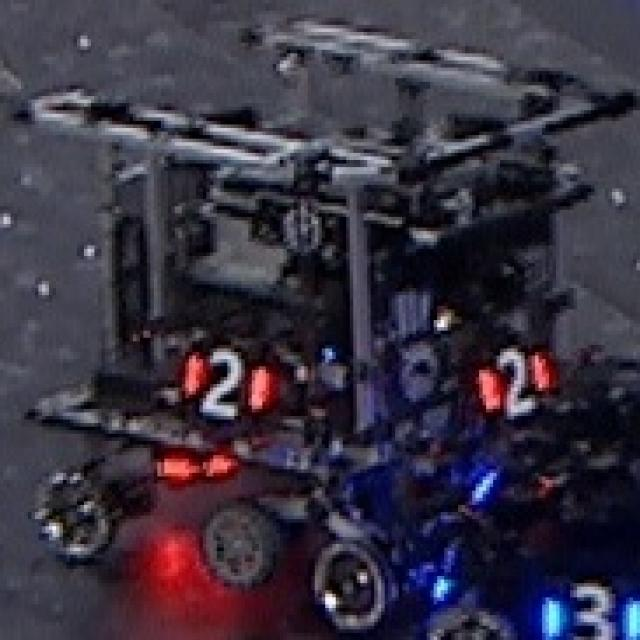B3: (542, 579, 640, 640)
R2: (182, 342, 269, 419), (472, 345, 553, 416)
